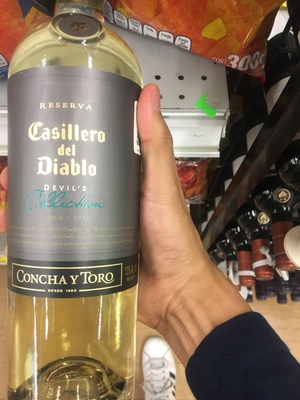casillero del diablo devils collection verde: (8, 21, 147, 400)
